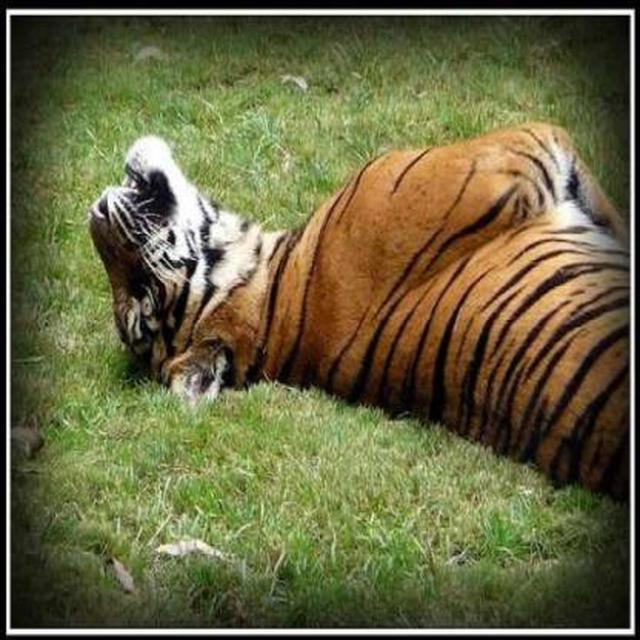tiger: (87, 119, 629, 503)
